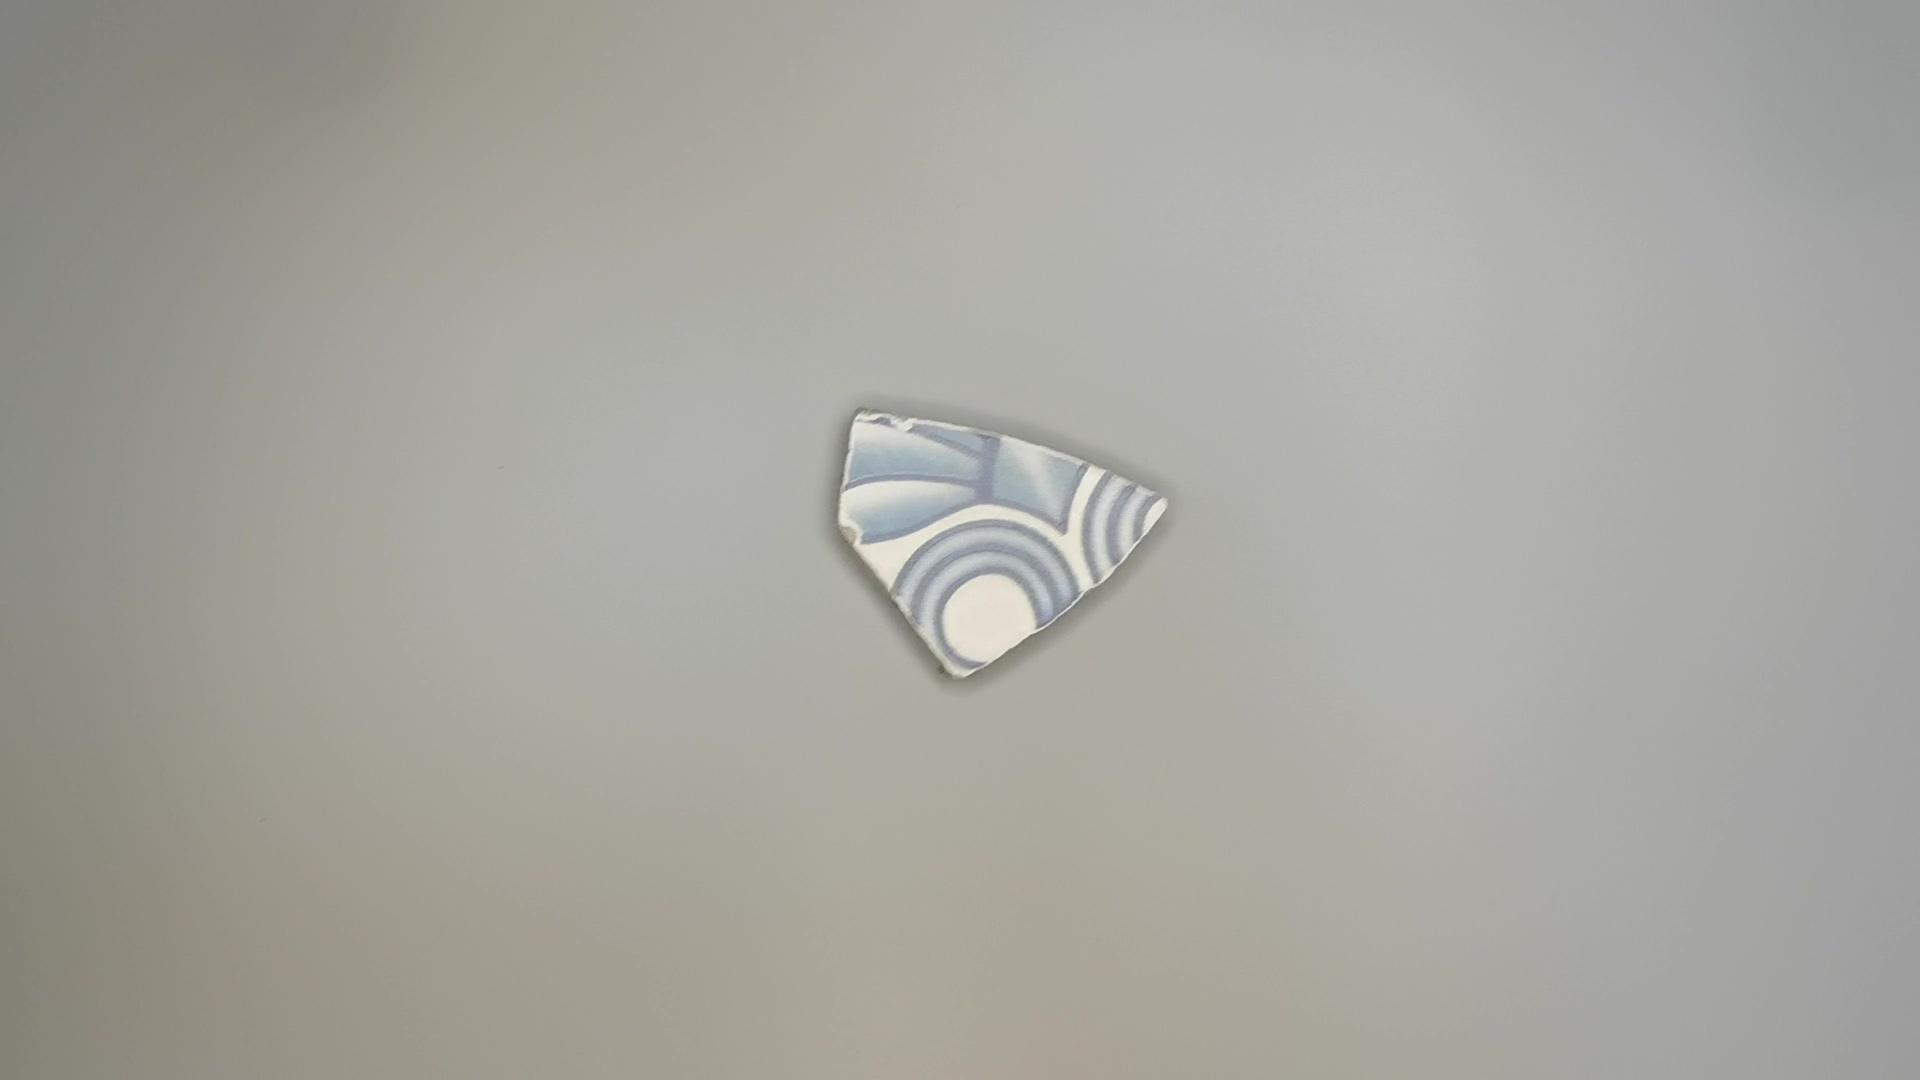ceramic: (829, 404, 1180, 698)
